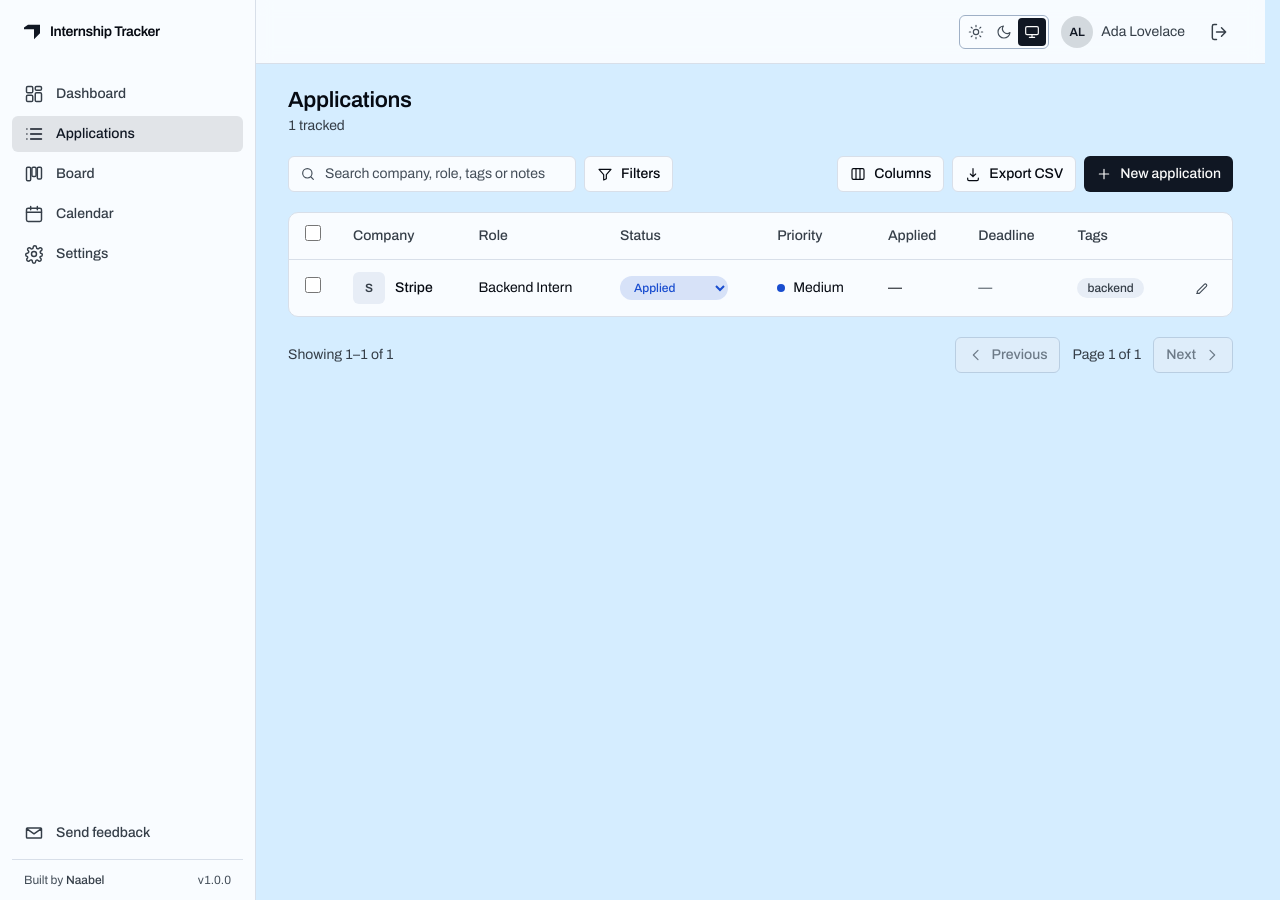
Test: version conflict UI › loads the server document into the form when the user discards their edit
The width and height of the screenshot is (1280, 900).
Expected: the link "S Stripe" is shown, [353,272,433,304]
Click the button named "Edit Stripe".
click(1202, 288)  # box [1188,274,1216,302]
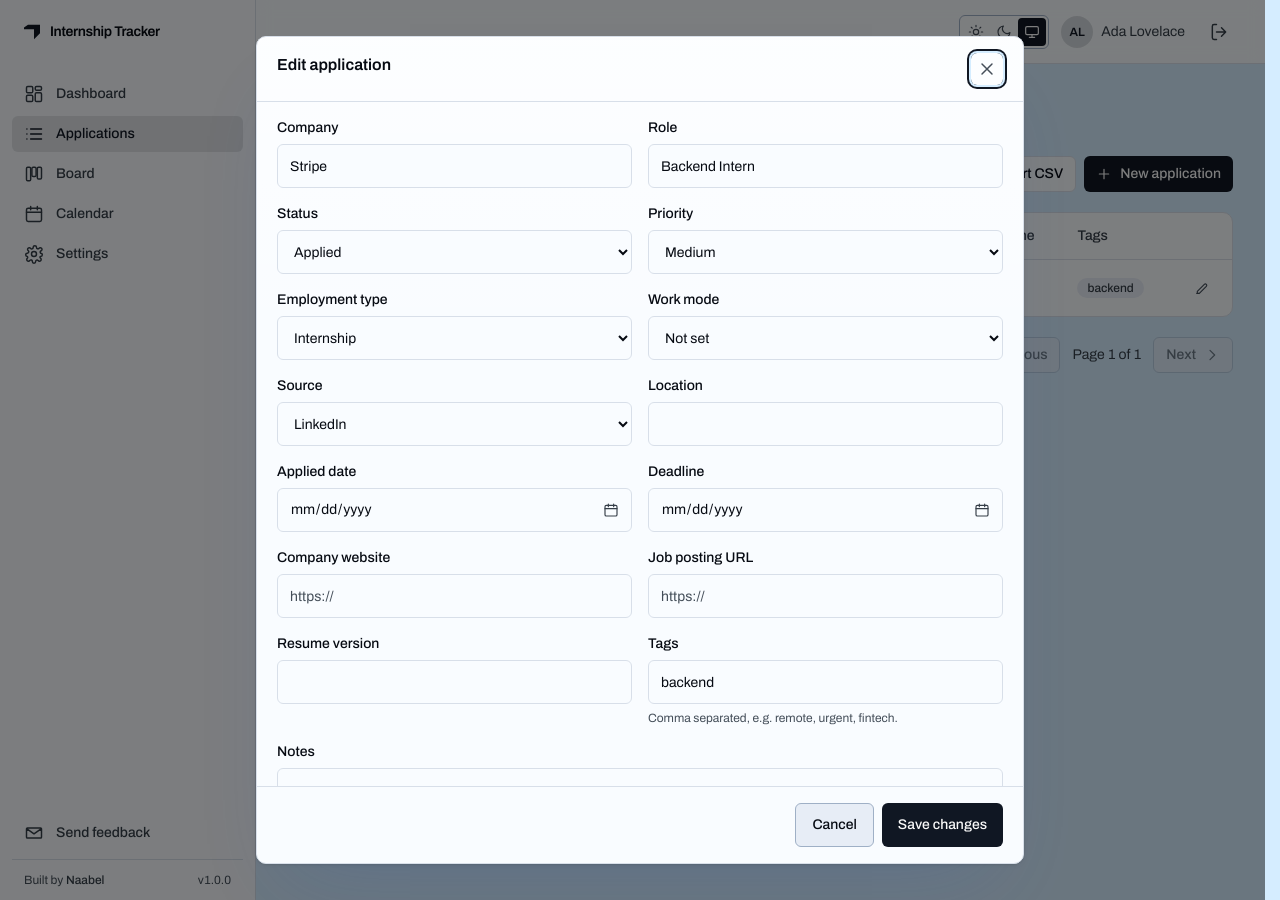
Replace the text in the field labelled "Role" with "Backend Engineer Intern" at (826, 166), box [648,144,1003,188]
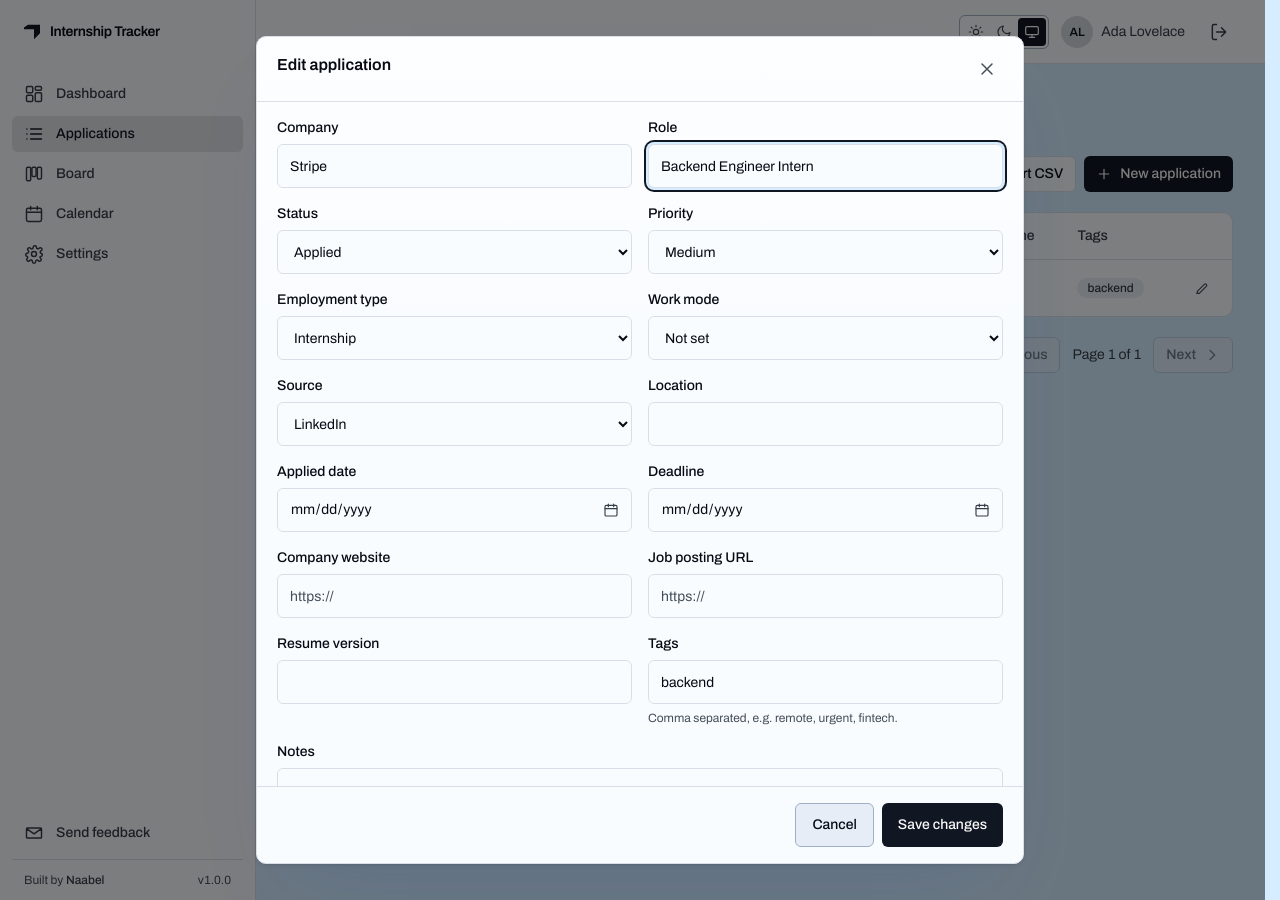
Click the button "Save changes".
click(942, 825)  # box [882,803,1003,847]
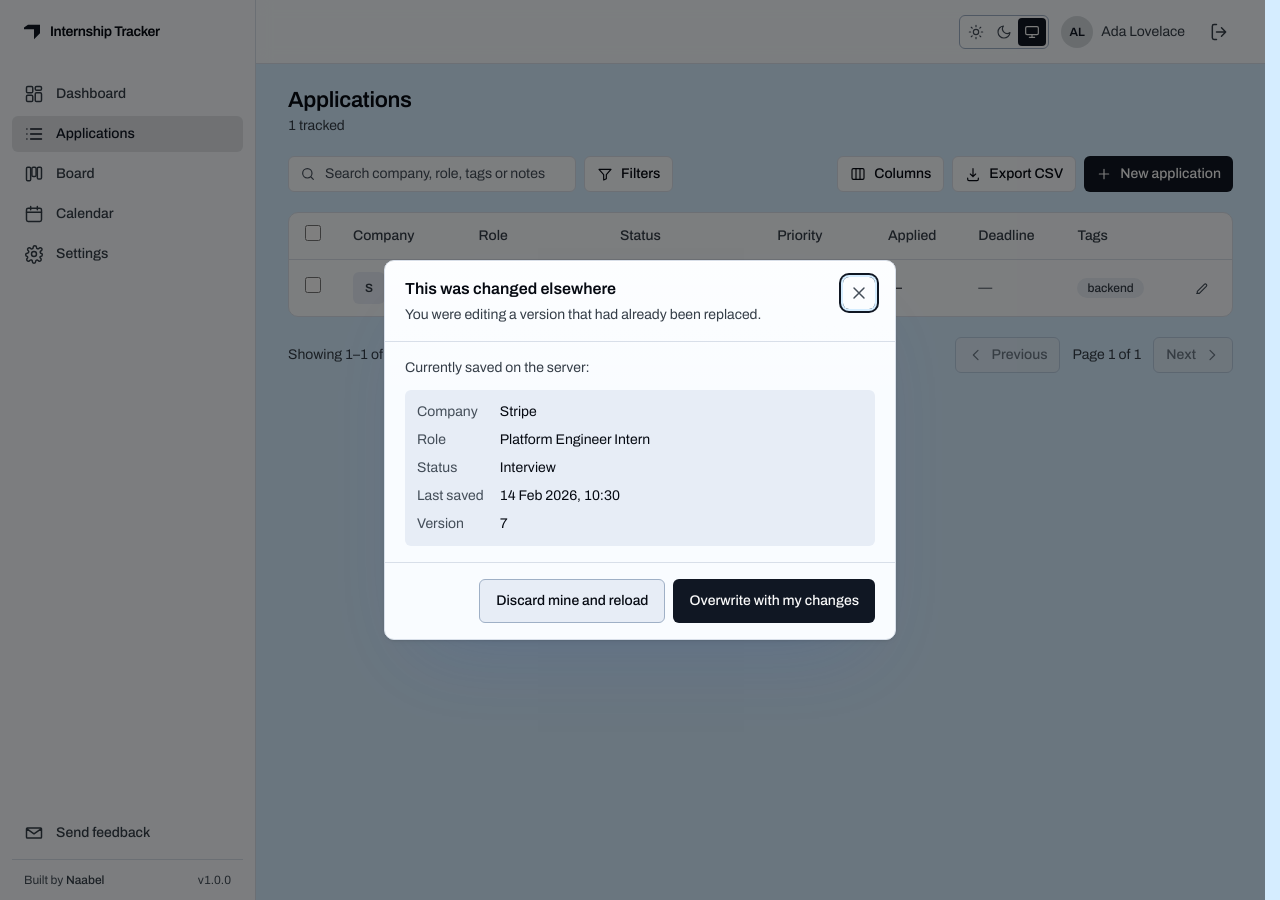
Click the button "Discard mine and reload".
click(572, 601)  # box [479,579,666,623]
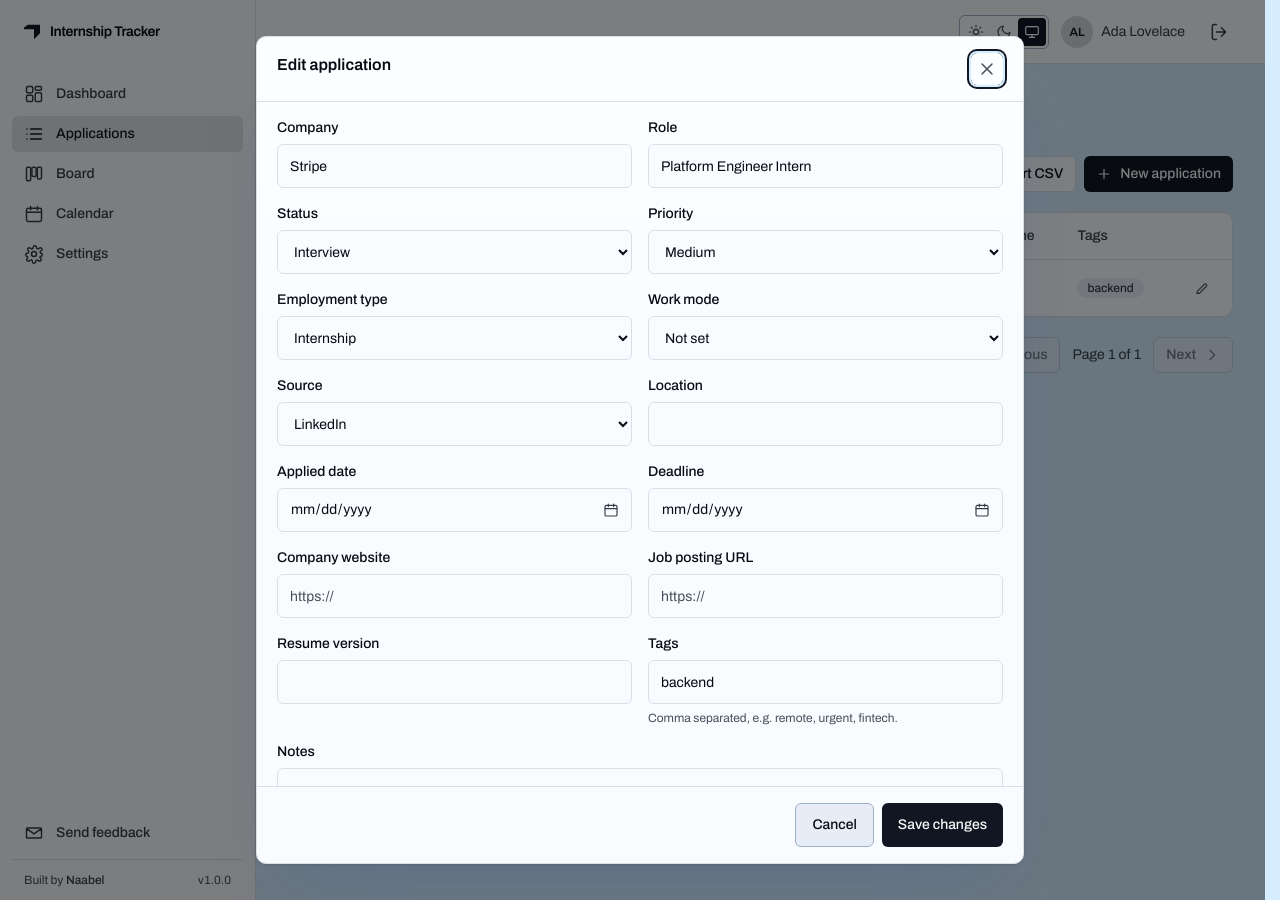
Now the field labelled "Role" holds "Platform Engineer Intern", box [648,144,1003,188]
Now the dropdown labelled "Status" shows "Interview", box [277,230,632,274]
